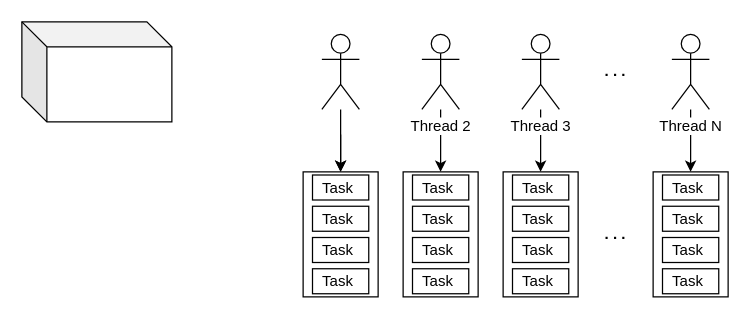
Some shapes in this 750 by 319 pixel diagram are drawn without their labels. Each missing label, with the centre of its shape:
"CPU" belongs at point 96,71.
"Thread 1" belongs at point 340,71.
